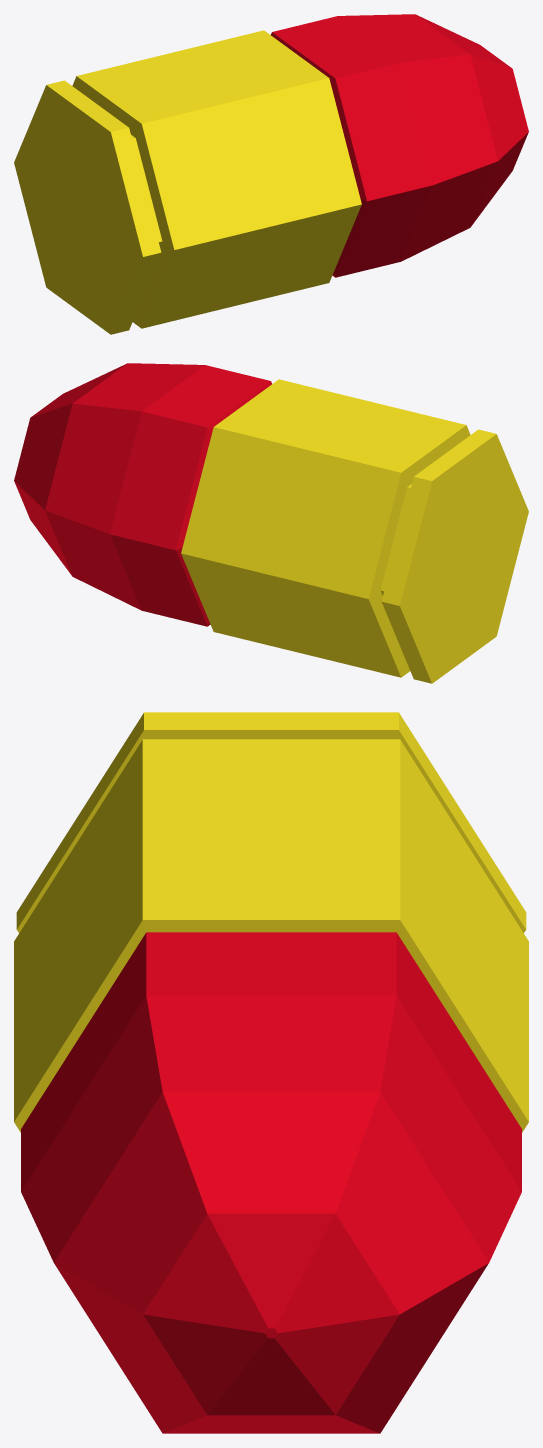
Rendered from Bullet 1.fbx.
The picture shows the model from 3 angles, top to bottom: view 1: azimuth 30°, elevation 25°; view 2: azimuth 150°, elevation 25°; view 3: azimuth 270°, elevation 25°; orthographic projection. The views are drawn at different scales.
Parts seen in each view (by area): view 1: Zylinder; view 2: Zylinder; view 3: Zylinder.
Boxes of the visible parts, x1,y1,x2,y2 form: Zylinder: (14, 14, 528, 334); Zylinder: (14, 363, 528, 683); Zylinder: (14, 712, 528, 1433).
Size of the model in its own units: 24.07 by 10.77 by 12.44.
